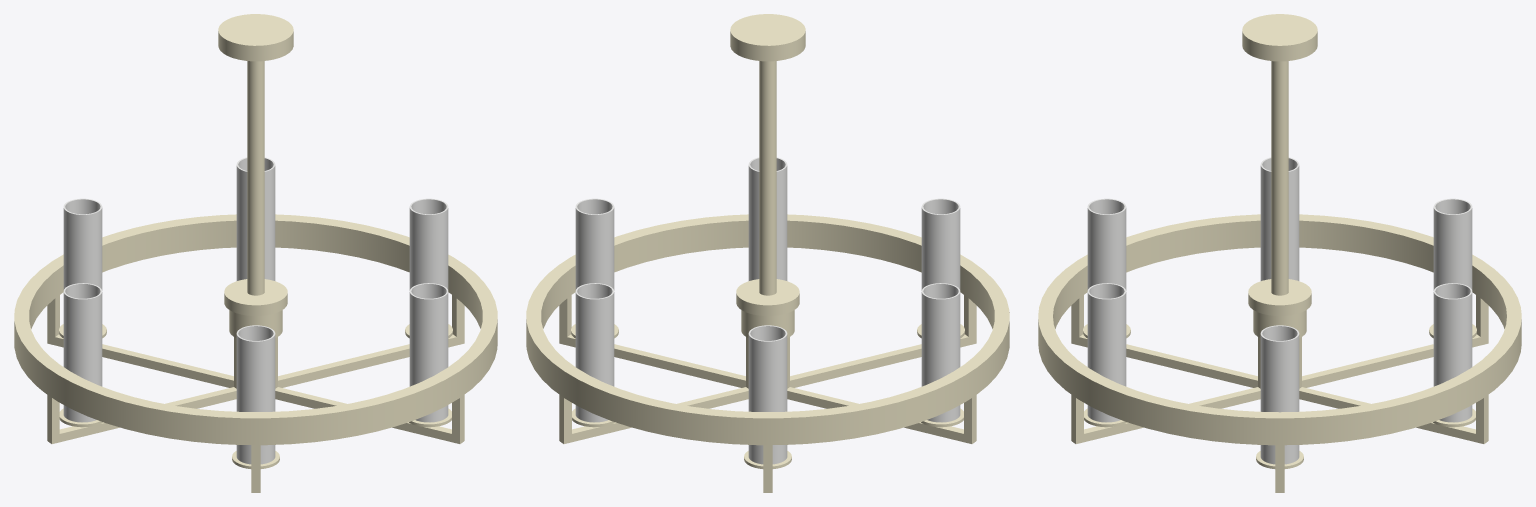
The model's file is 875_hanging_light.glb.
The picture shows the model from 3 angles, left to right: view 1: azimuth 30°, elevation 25°; view 2: azimuth 150°, elevation 25°; view 3: azimuth 270°, elevation 25°; orthographic projection.
Parts seen in each view (by area): view 1: Body; view 2: Body; view 3: Body.
Part boxes in pixels (left/top/right/bottom): Body: left=14, top=14, right=497, bottom=492; Body: left=526, top=14, right=1009, bottom=492; Body: left=1038, top=14, right=1521, bottom=492.
Bounding box in the file's own units: 1.05 × 0.8656 × 1.05.
